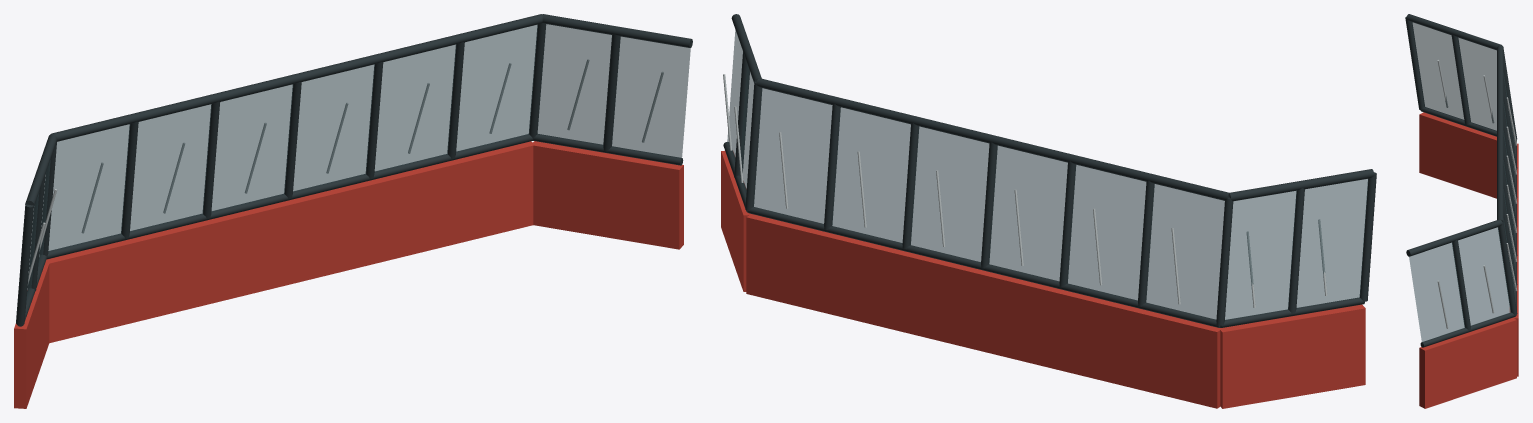
The model's file is ferry_bridge_front.glb.
3 renders of one model, left to right at view 1: azimuth 30°, elevation 25°; view 2: azimuth 150°, elevation 25°; view 3: azimuth 270°, elevation 25°, orthographic. The views are drawn at different scales.
Visible parts, largest first — view 1: ferry_bridge_front__Optical ferry glass, ferry_bridge_front__Paint_Fascia, ferry_bridge_front__Fixed_BlackHousing, ferry_bridge_front__Fixed_Stainless; view 2: ferry_bridge_front__Optical ferry glass, ferry_bridge_front__Paint_Fascia, ferry_bridge_front__Fixed_BlackHousing, ferry_bridge_front__Fixed_Stainless; view 3: ferry_bridge_front__Optical ferry glass, ferry_bridge_front__Paint_Fascia, ferry_bridge_front__Fixed_BlackHousing, ferry_bridge_front__Fixed_Stainless.
Boxes of the visible parts, x1=… form: ferry_bridge_front__Optical ferry glass: x1=26, y1=24, x2=690, y2=302; ferry_bridge_front__Paint_Fascia: x1=14, y1=141, x2=683, y2=408; ferry_bridge_front__Fixed_BlackHousing: x1=16, y1=14, x2=692, y2=326; ferry_bridge_front__Fixed_Stainless: x1=28, y1=59, x2=663, y2=283; ferry_bridge_front__Optical ferry glass: x1=727, y1=30, x2=1368, y2=319; ferry_bridge_front__Paint_Fascia: x1=721, y1=150, x2=1365, y2=408; ferry_bridge_front__Fixed_BlackHousing: x1=723, y1=14, x2=1376, y2=327; ferry_bridge_front__Fixed_Stainless: x1=723, y1=74, x2=1327, y2=307; ferry_bridge_front__Optical ferry glass: x1=1409, y1=22, x2=1513, y2=342; ferry_bridge_front__Paint_Fascia: x1=1419, y1=112, x2=1518, y2=408; ferry_bridge_front__Fixed_BlackHousing: x1=1405, y1=14, x2=1517, y2=347; ferry_bridge_front__Fixed_Stainless: x1=1437, y1=60, x2=1517, y2=328.
Size of the model in its own units: 7.39 by 2.27 by 1.48.
